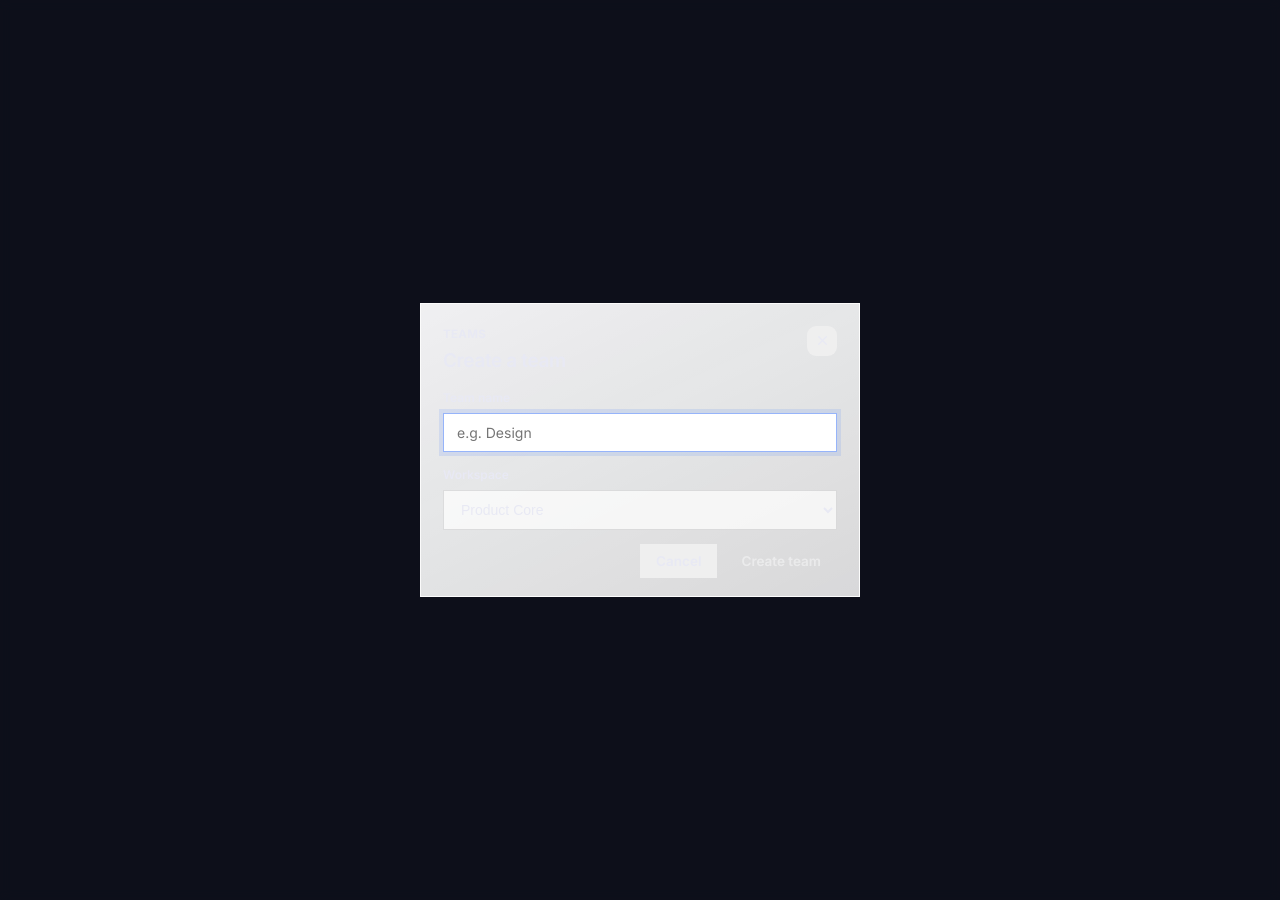
CreateTeamModal › stays open and shows the error when creation fails
The image size is (1280, 900).
Type "Design" into the field labelled "Team name". click: (640, 433)
box: [443,413,837,452]
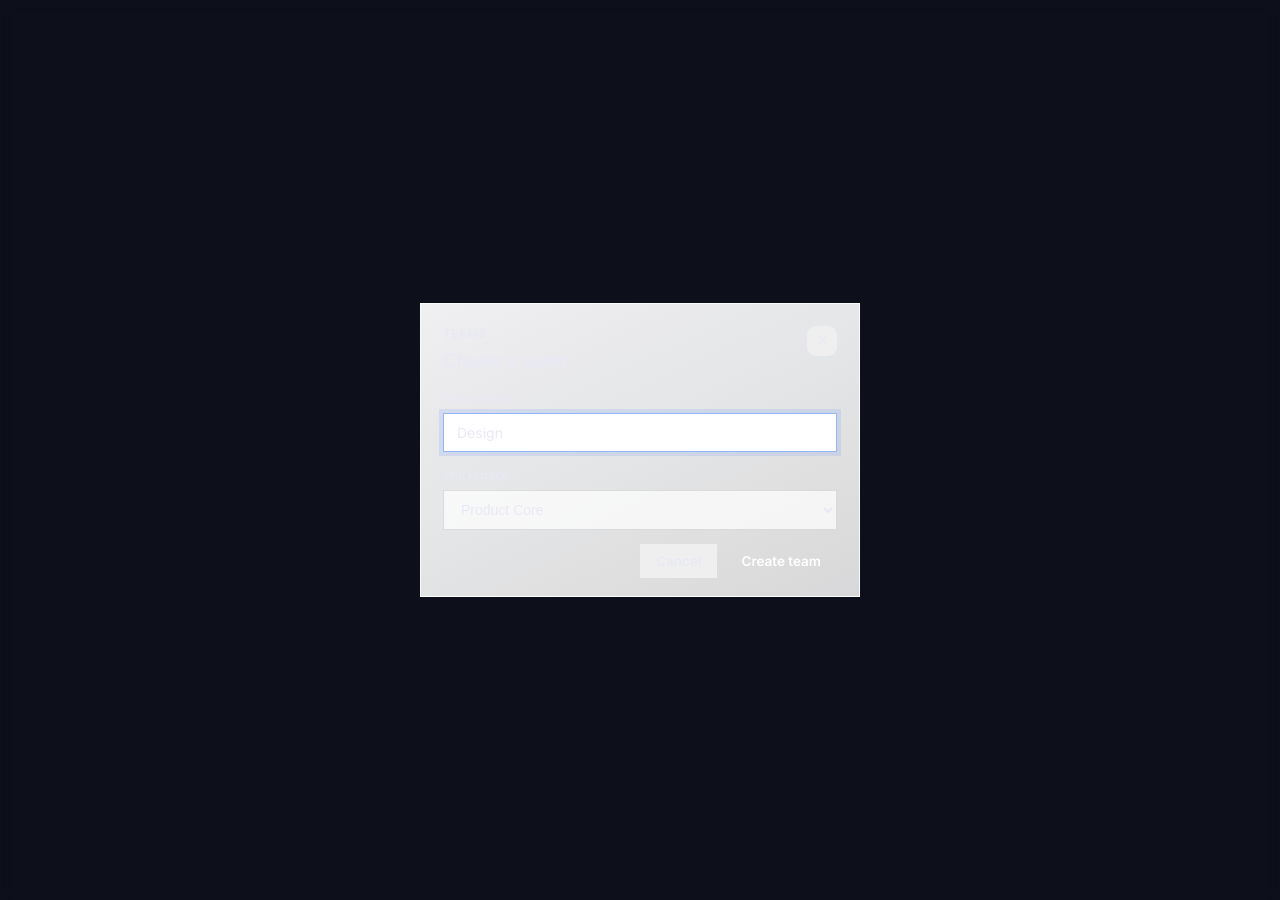
Click the button "Create team". click: (781, 561)
box: [725,544,837,578]
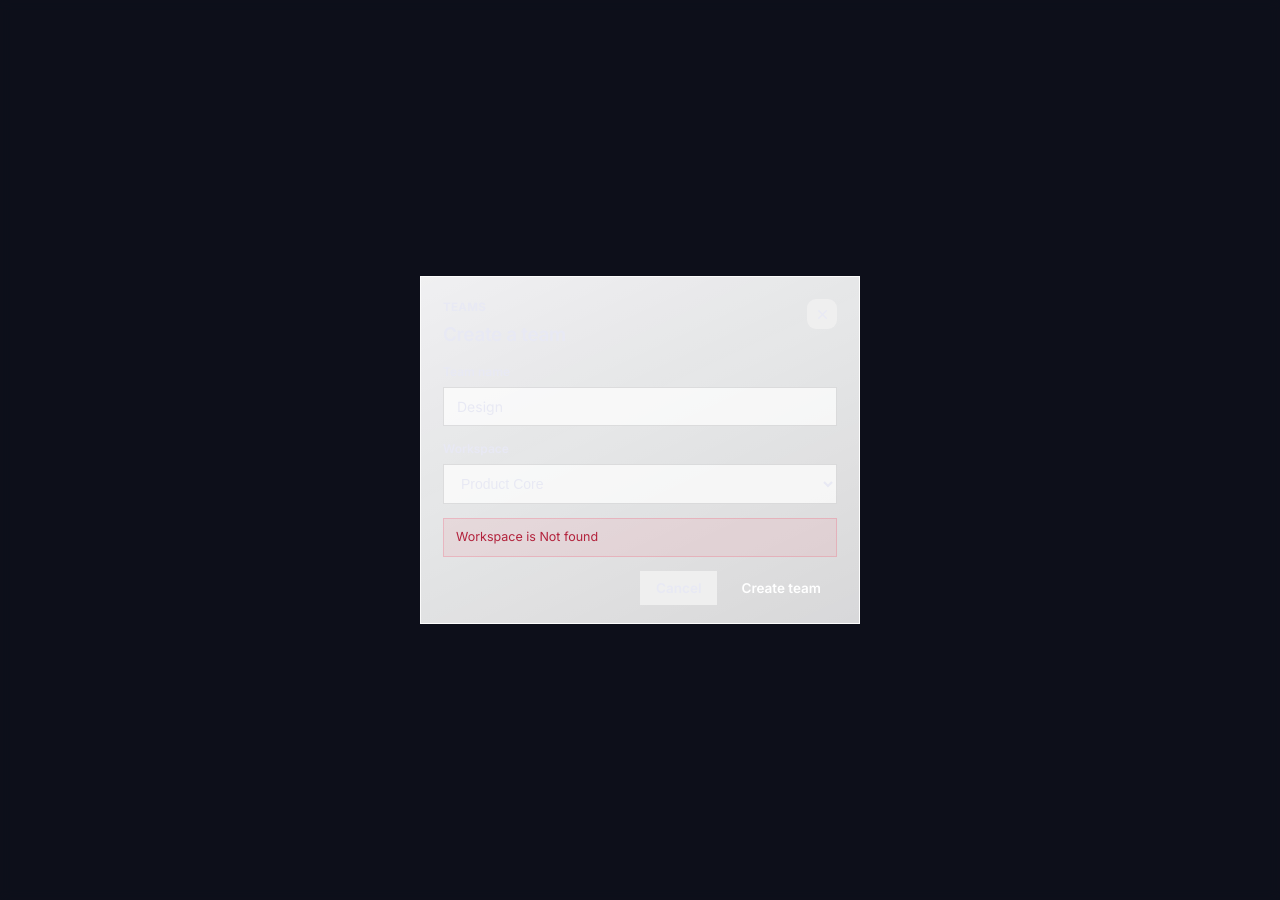
Now the button "Create team" is enabled, box [725,571,837,605]
Now the message reads "Workspace is Not found", box [456,529,598,544]
